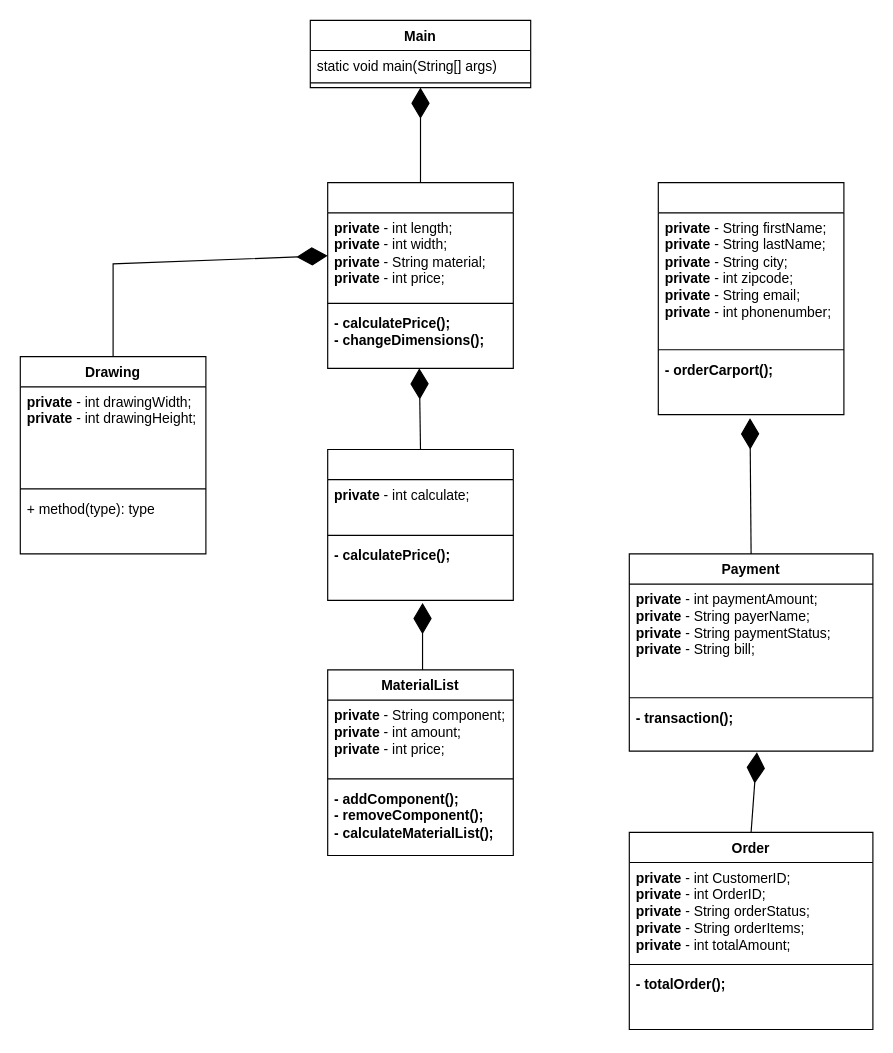
Some shapes in this 893 by 1053 pixel diagram are drawn without their labels. Each missing label, with the box of its shape:
Calculater: (327, 448, 513, 600)
Carport: (327, 182, 513, 368)
Costumer: (657, 182, 844, 415)
